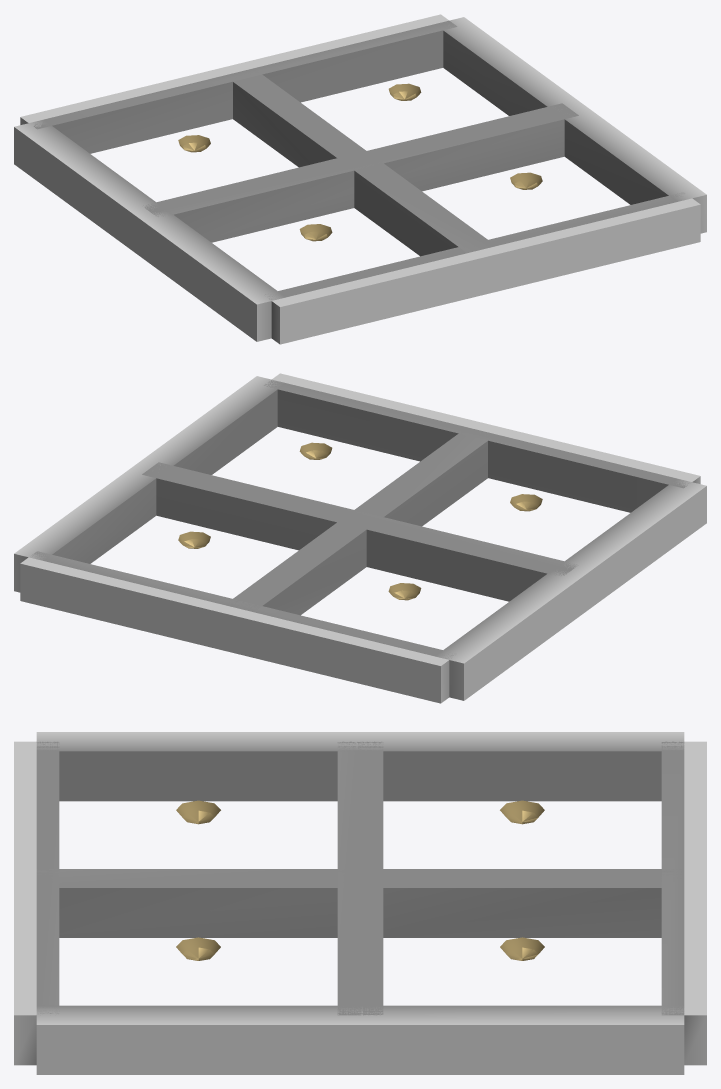
The model's file is coffers.glb.
The picture shows the model from 3 angles, top to bottom: view 1: azimuth 30°, elevation 25°; view 2: azimuth 150°, elevation 25°; view 3: azimuth 270°, elevation 25°; orthographic projection. The views are drawn at different scales.
Parts seen in each view (by area): view 1: coffers_CL_Stone, coffers_CL_Gilt; view 2: coffers_CL_Stone, coffers_CL_Gilt; view 3: coffers_CL_Stone, coffers_CL_Gilt.
Boxes of the visible parts, x1,y1,x2,y2 form: coffers_CL_Stone: [14, 14, 706, 344]; coffers_CL_Gilt: [178, 83, 542, 241]; coffers_CL_Stone: [14, 373, 706, 703]; coffers_CL_Gilt: [178, 442, 542, 600]; coffers_CL_Stone: [14, 732, 706, 1074]; coffers_CL_Gilt: [176, 800, 544, 960].
Bounding box in the file's own units: 4.28 × 0.34 × 4.28.
